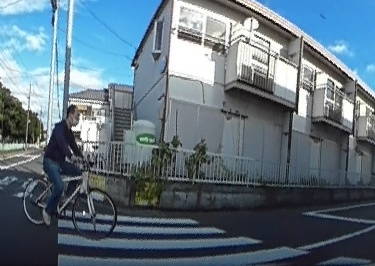person: (45, 101, 81, 224)
